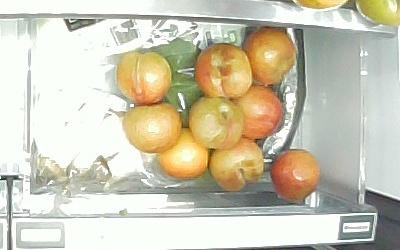prune: (243, 25, 297, 86), (115, 50, 172, 106), (196, 44, 252, 101), (209, 139, 265, 193), (188, 97, 245, 150), (233, 84, 285, 139), (123, 105, 181, 154), (270, 148, 320, 202), (158, 128, 208, 181)
